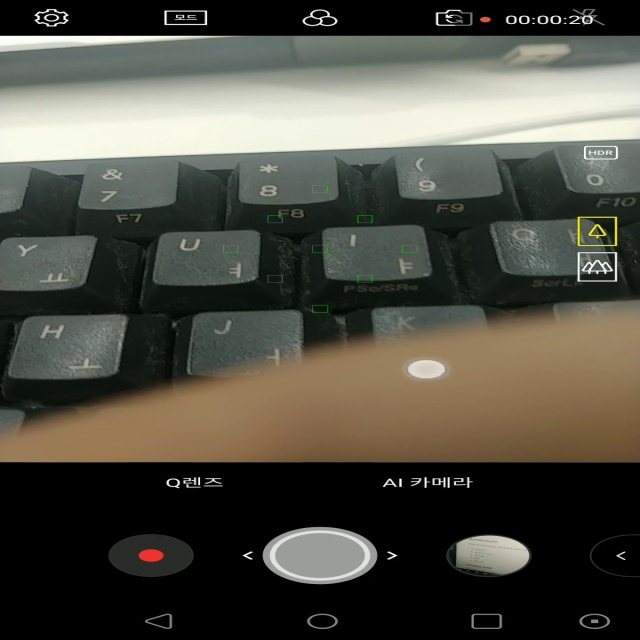Cursor: (404, 359, 448, 381)
